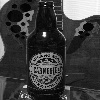beer: (22, 1, 68, 94)
